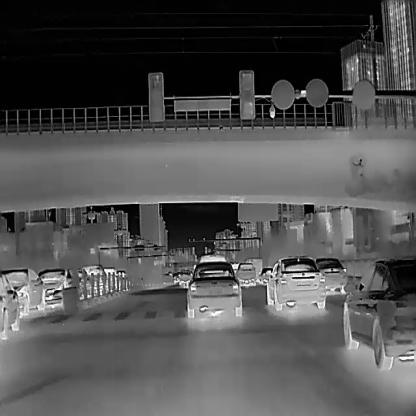car: (342, 256, 416, 370), (266, 254, 325, 310), (186, 260, 242, 318), (2, 268, 44, 314), (37, 267, 71, 308), (0, 270, 19, 338), (314, 256, 346, 292), (82, 264, 106, 294), (69, 266, 88, 300), (235, 262, 256, 286), (102, 266, 116, 292), (177, 269, 192, 286), (258, 266, 273, 283), (198, 254, 226, 262)
truck: (242, 258, 262, 280)
